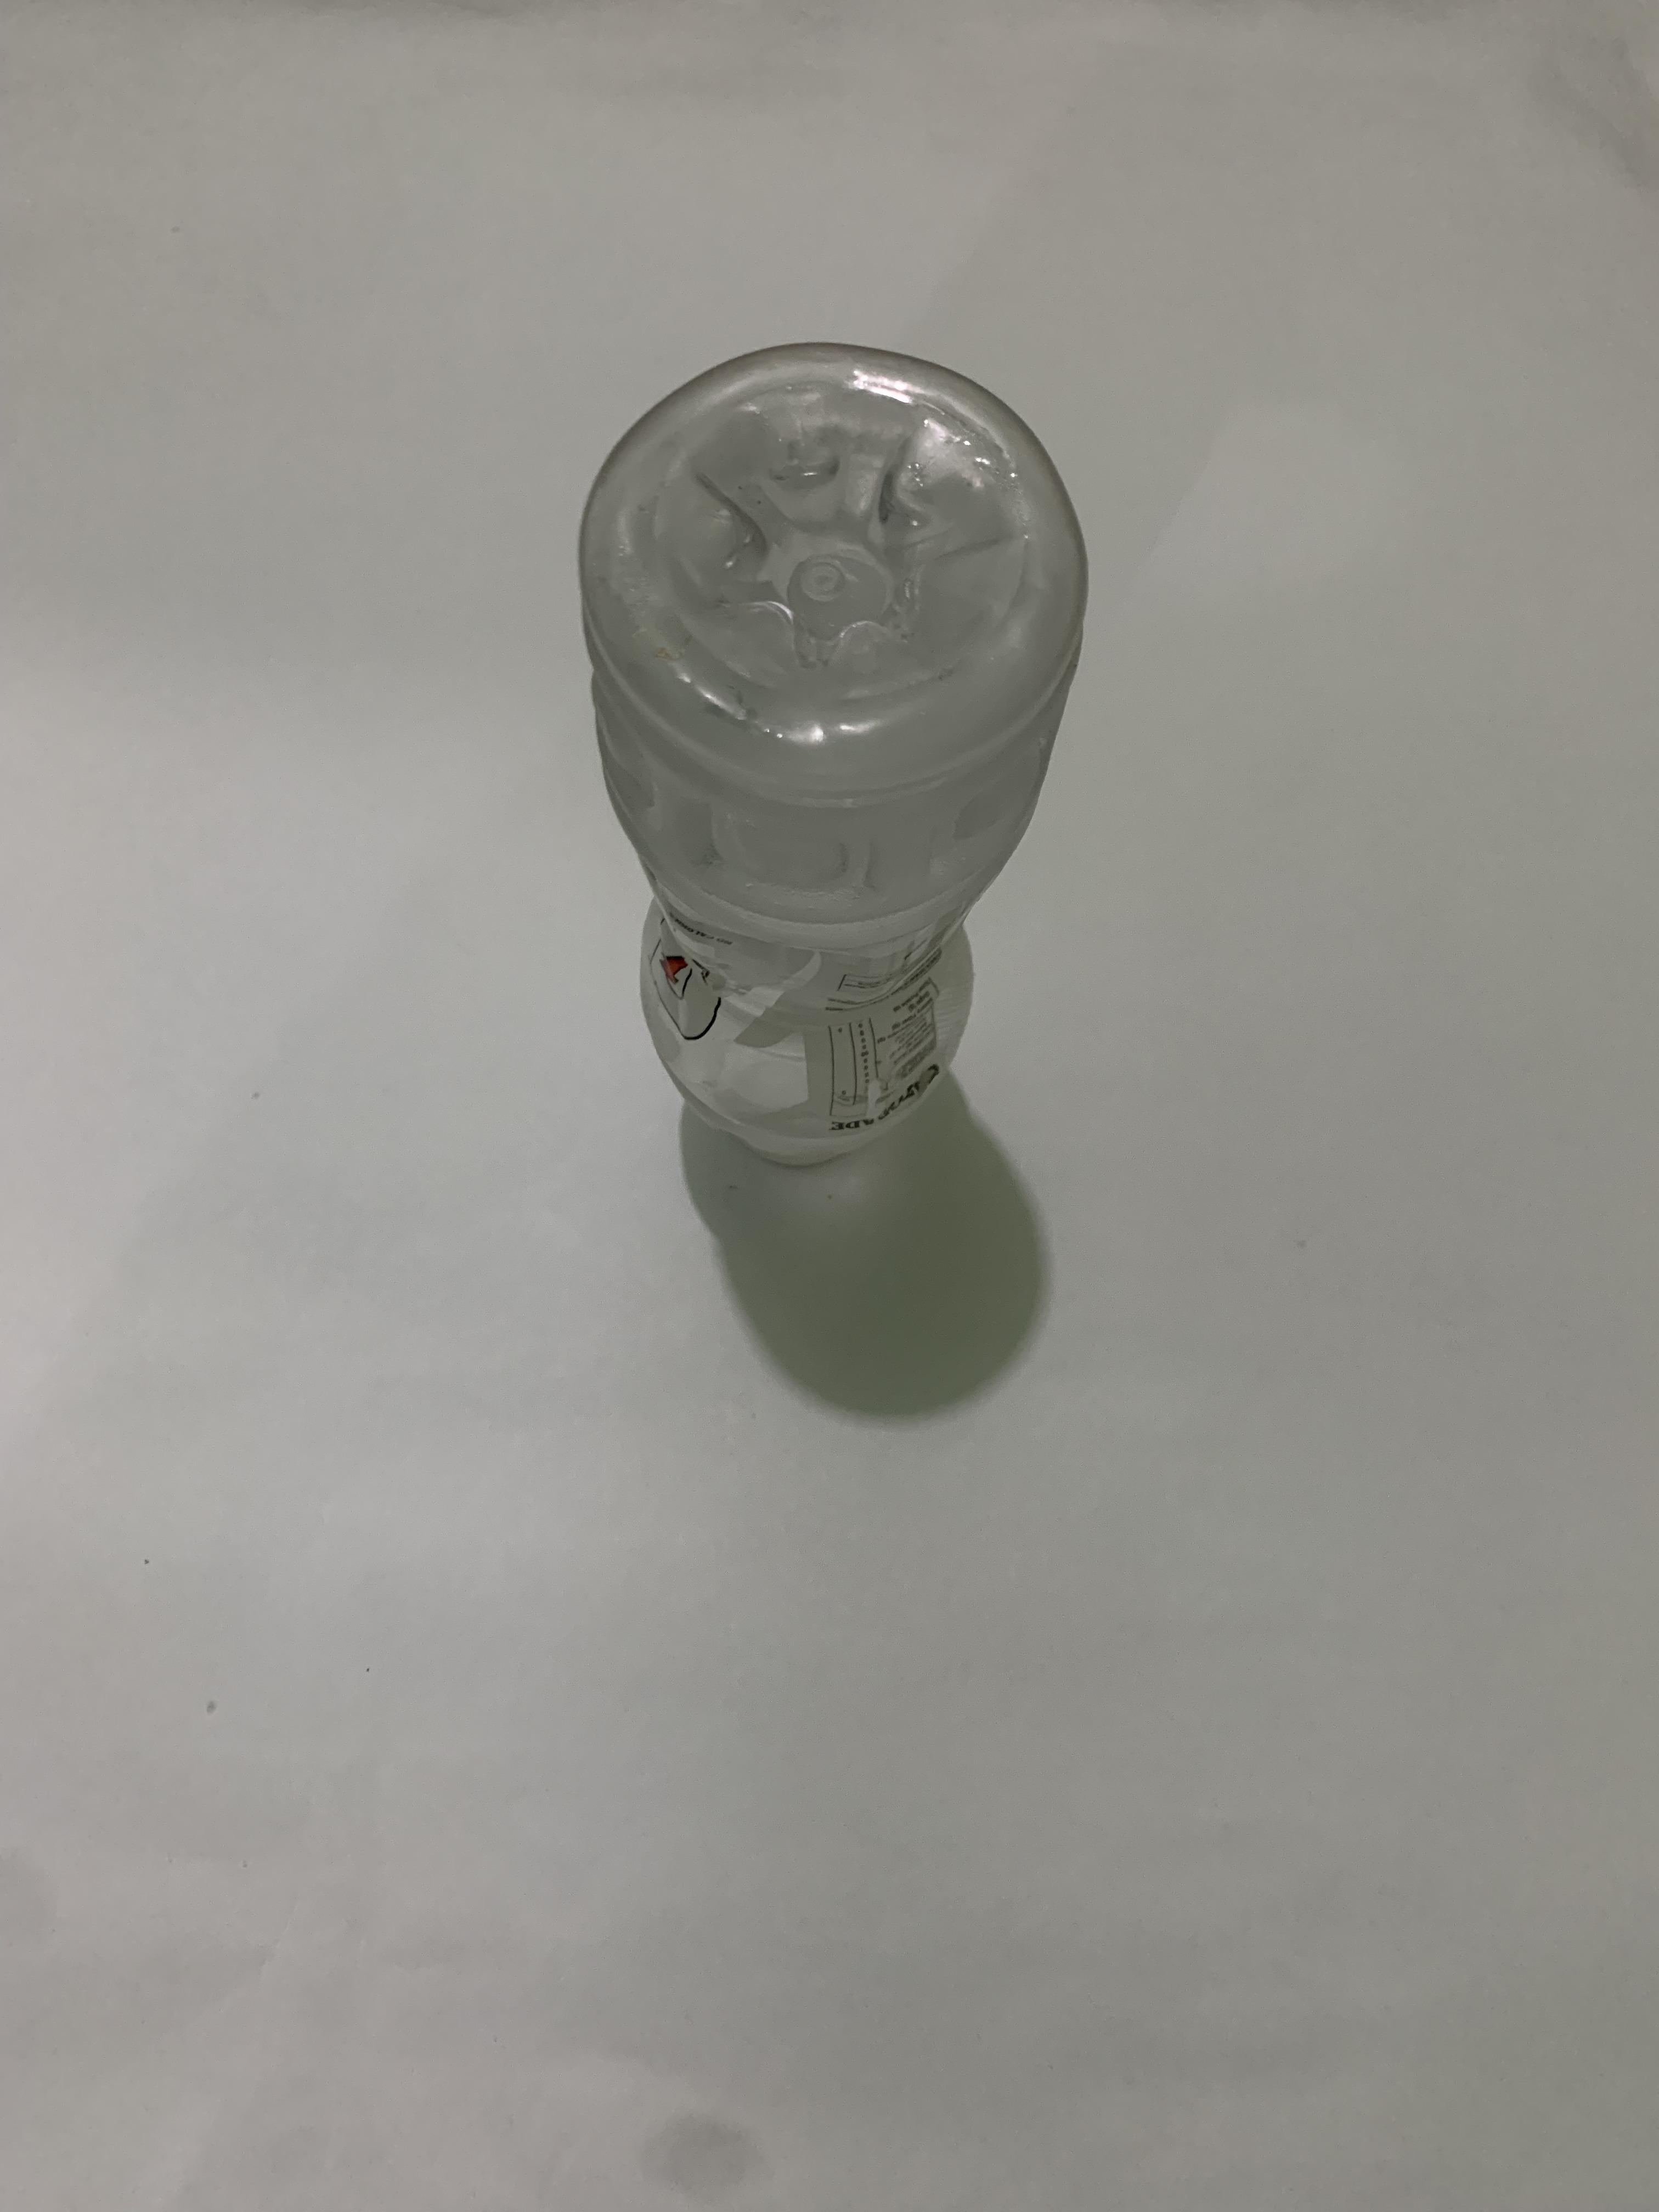bottle: (0, 324, 268, 1191)
